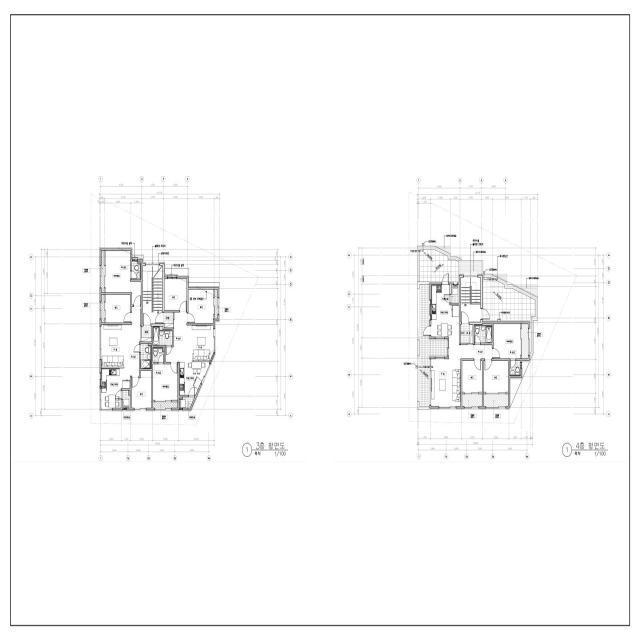space_balconi: (419, 285, 448, 406), (484, 395, 508, 406), (462, 395, 482, 406), (522, 324, 528, 359), (153, 402, 178, 408), (101, 251, 104, 292), (215, 289, 218, 319), (101, 295, 104, 323)
space_bedroom: (106, 251, 141, 305), (493, 324, 520, 359), (153, 364, 178, 400), (188, 289, 213, 323), (484, 361, 508, 392), (164, 279, 187, 310), (132, 371, 151, 408), (106, 295, 130, 323), (462, 361, 482, 392)
space_front: (461, 325, 473, 344), (141, 326, 152, 342), (164, 312, 173, 328)
space_kitchen: (431, 285, 459, 337), (101, 368, 130, 409), (179, 362, 210, 395)
space_living_room: (431, 337, 492, 406), (101, 307, 141, 376), (166, 312, 213, 362)
space_multipurpose_space: (179, 397, 195, 408), (122, 390, 130, 408), (452, 285, 459, 303)
space_other: (474, 324, 492, 325), (160, 326, 163, 330), (179, 397, 182, 399), (138, 261, 141, 263), (129, 390, 130, 395), (163, 347, 164, 351), (149, 344, 151, 345), (510, 376, 520, 376), (153, 347, 163, 347), (141, 264, 141, 279), (164, 330, 172, 330), (151, 346, 151, 369)
space_staircase: (143, 266, 162, 324), (461, 278, 480, 322)
space_toilet: (153, 327, 172, 345), (474, 326, 492, 343), (141, 344, 151, 368), (153, 348, 164, 362), (132, 261, 140, 279), (510, 361, 520, 375)
